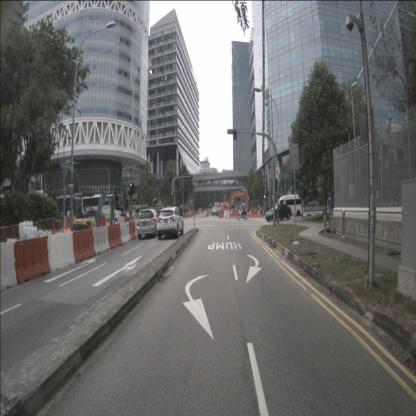barrier: (14, 235, 49, 285), (47, 232, 76, 273), (0, 240, 18, 292), (72, 228, 96, 264), (92, 226, 110, 256), (108, 224, 123, 250), (119, 221, 132, 245), (128, 220, 137, 241), (247, 209, 258, 218), (117, 218, 126, 228), (230, 210, 240, 218), (223, 210, 230, 218)
cone: (62, 227, 74, 235), (52, 228, 60, 238)
